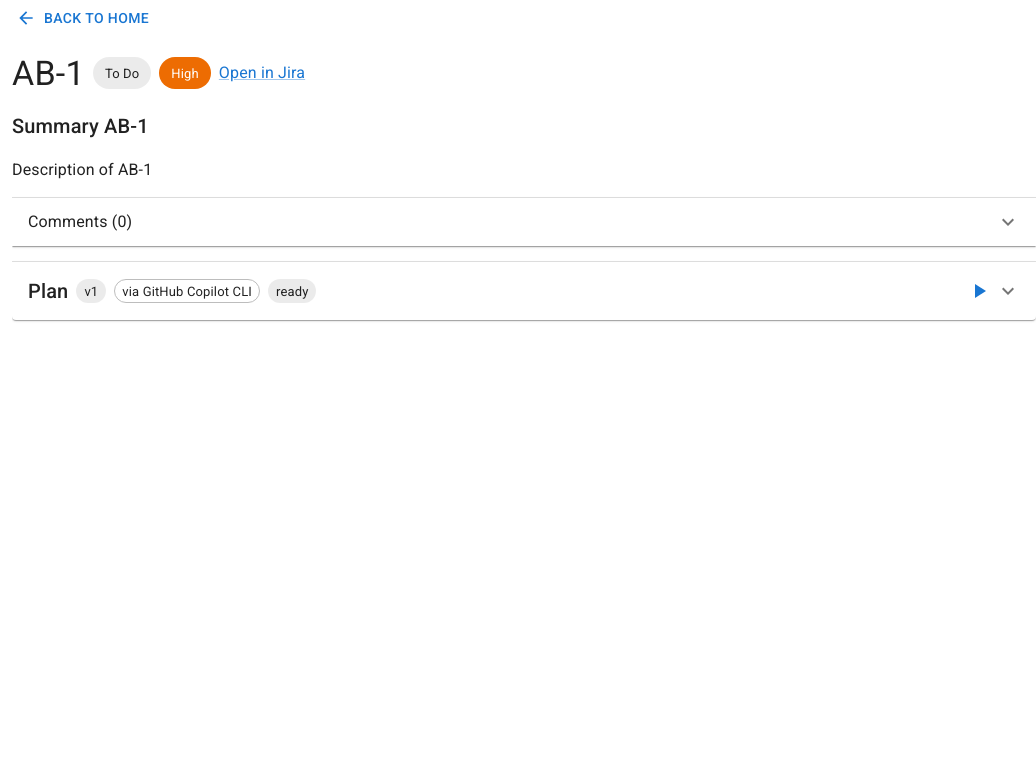
plan accordion is collapsed by default
Click the button "Plan v1 via GitHub Copilot CLI ready": (48, 291) [28,274,1020,308]
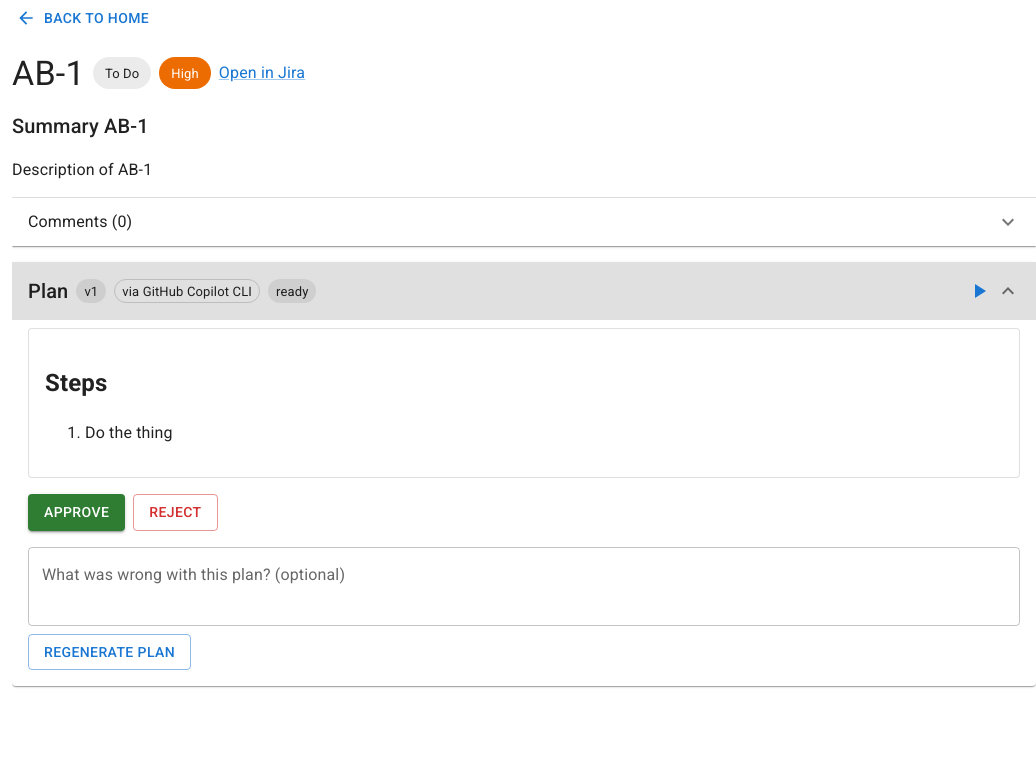
Check: the button "Plan v1 via GitHub Copilot CLI ready" is expanded, box [12,262,1035,320]
